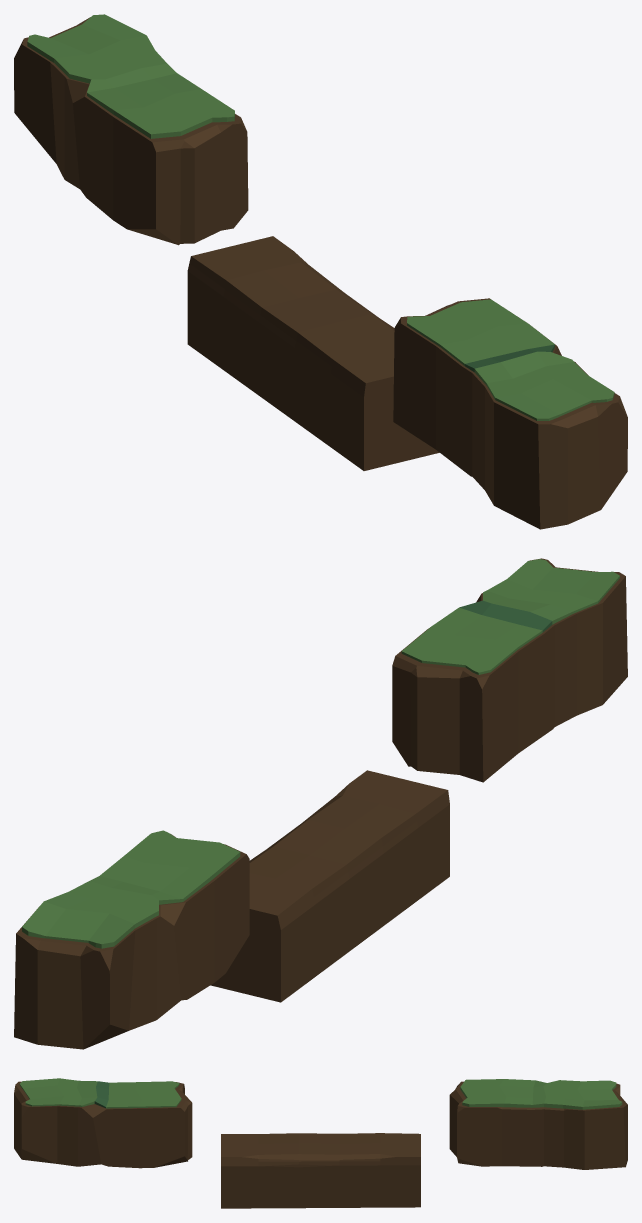
The model's file is ground_03.fbx.
3 views of the same model, one above another, from view 1: azimuth 30°, elevation 25°; view 2: azimuth 150°, elevation 25°; view 3: azimuth 270°, elevation 25° (orthographic). The views are drawn at different scales.
Parts seen in each view (by area): view 1: Cube, Cube.001, Cube.002; view 2: Cube, Cube.001, Cube.002; view 3: Cube.001, Cube.002, Cube.
Boxes of the visible parts, x1,y1,x2,y2 form: Cube: (393,298,627,529); Cube.001: (14,14,248,245); Cube.002: (187,236,439,470); Cube: (392,558,627,782); Cube.001: (14,830,249,1049); Cube.002: (210,770,449,1002); Cube.001: (449,1079,627,1169); Cube.002: (221,1133,420,1208); Cube: (14,1078,192,1168).
Size of the model in its own units: 1705 by 2624 by 13939.
